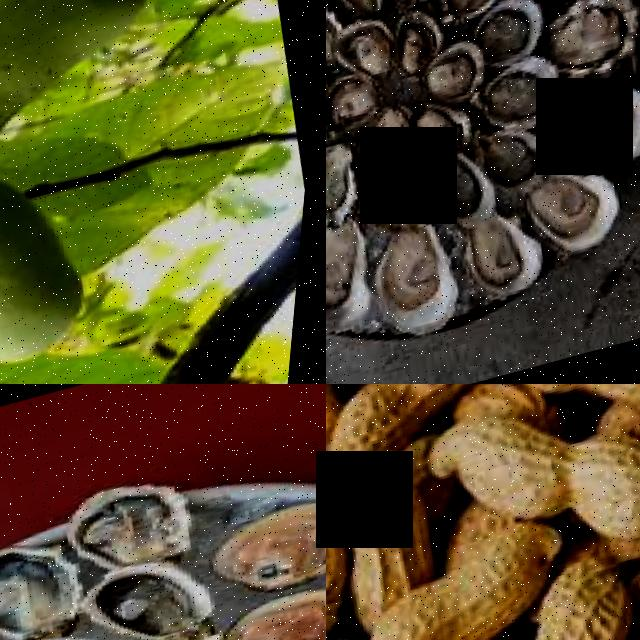mango: (0, 0, 174, 162), (0, 145, 104, 384)
oysters: (57, 470, 201, 584), (367, 223, 476, 350), (74, 551, 225, 640), (460, 214, 565, 313), (529, 176, 635, 267), (555, 79, 640, 190), (0, 534, 89, 640), (543, 0, 640, 89), (326, 222, 392, 348), (473, 59, 566, 143), (425, 156, 510, 240), (479, 128, 567, 204), (360, 163, 437, 245), (474, 1, 551, 73), (384, 5, 453, 84), (361, 103, 427, 177), (410, 101, 481, 166), (329, 18, 398, 83), (422, 46, 492, 110), (426, 43, 494, 108), (326, 74, 388, 139), (326, 144, 371, 226), (429, 0, 525, 37), (326, 0, 394, 29)
peanuts: (423, 401, 579, 540), (326, 436, 454, 601), (357, 553, 536, 640), (531, 416, 640, 558), (326, 384, 509, 455), (519, 553, 640, 640), (326, 474, 374, 640), (531, 384, 640, 426)
